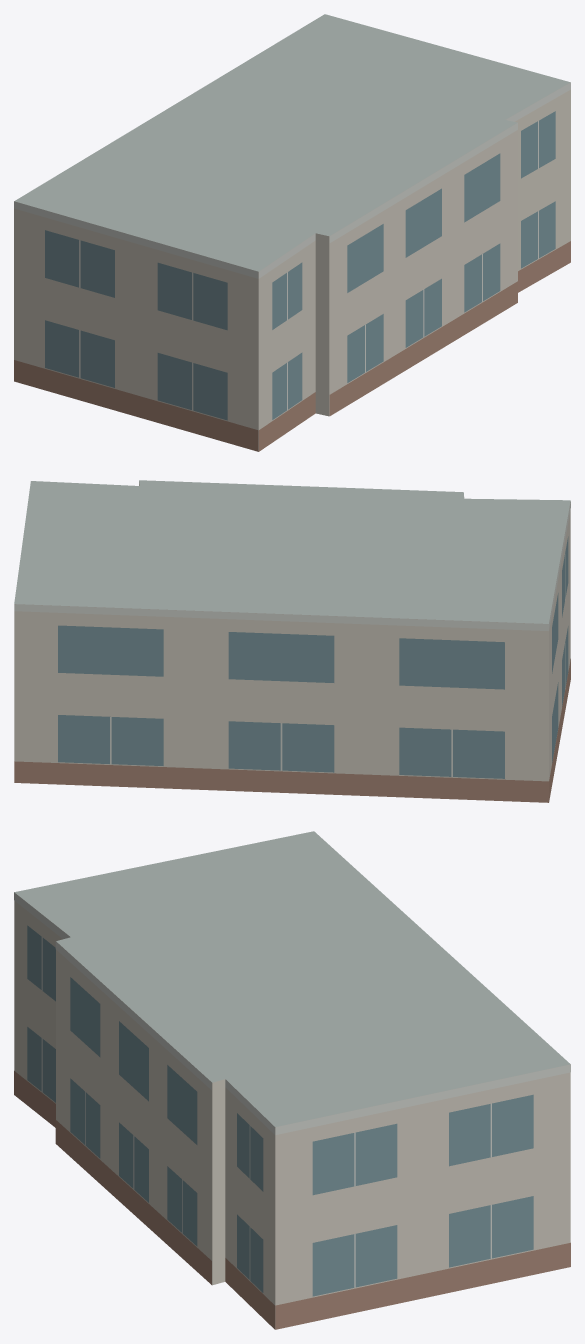
Rendered from survey-upis-32898658.glb.
3 views of the same model, one above another, from view 1: azimuth 30°, elevation 25°; view 2: azimuth 150°, elevation 25°; view 3: azimuth 270°, elevation 25° (orthographic). The views are drawn at different scales.
Parts seen in each view (by area): view 1: survey-upis-32898658.tmp; view 2: survey-upis-32898658.tmp; view 3: survey-upis-32898658.tmp.
Boxes of the visible parts, <box> form: survey-upis-32898658.tmp: <box>14,14,570,451</box>; survey-upis-32898658.tmp: <box>14,480,570,802</box>; survey-upis-32898658.tmp: <box>14,831,570,1329</box>.
Size of the model in its own units: 19.12 by 6.1 by 15.2.
